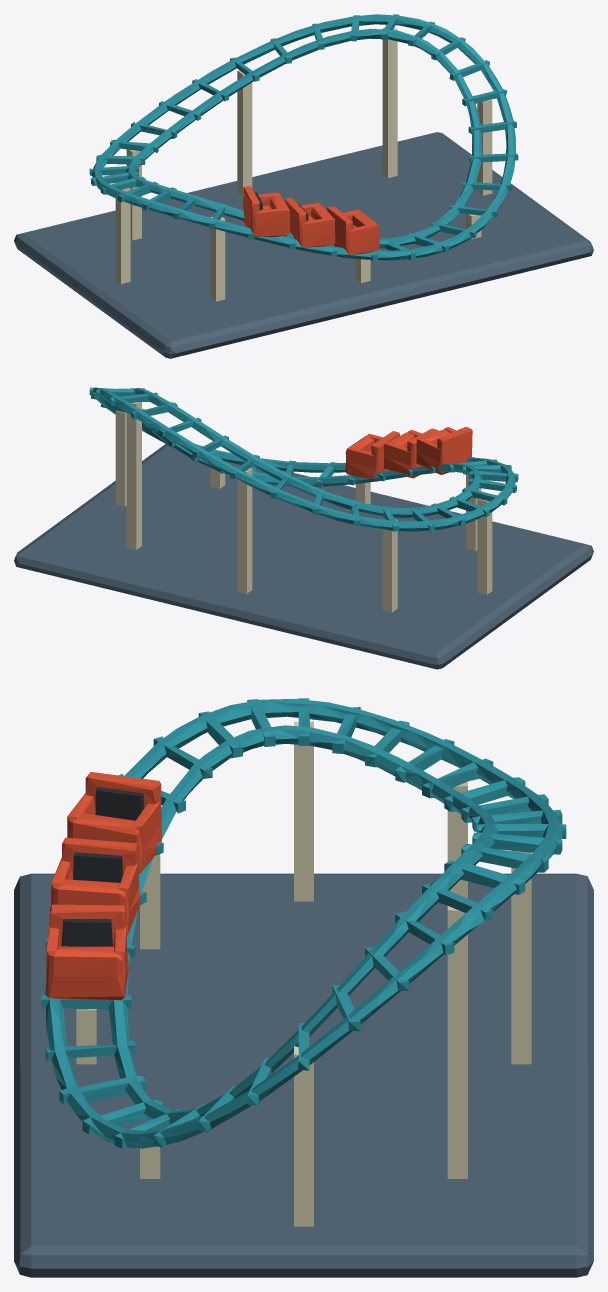
Rendered from NEW_RECOVERY_106_LOD2.glb.
3 views of the same model, one above another, from view 1: azimuth 30°, elevation 25°; view 2: azimuth 150°, elevation 25°; view 3: azimuth 270°, elevation 25° (orthographic). The views are drawn at different scales.
Parts seen in each view (by area): view 1: Compact_roller_coaster; view 2: Compact_roller_coaster; view 3: Compact_roller_coaster.
Part boxes in pixels (left/top/right/bottom): Compact_roller_coaster: left=14, top=14, right=593, bottom=358; Compact_roller_coaster: left=14, top=387, right=593, bottom=669; Compact_roller_coaster: left=14, top=698, right=593, bottom=1277.
Size of the model in its own units: 6.3 by 2.38 by 4.
